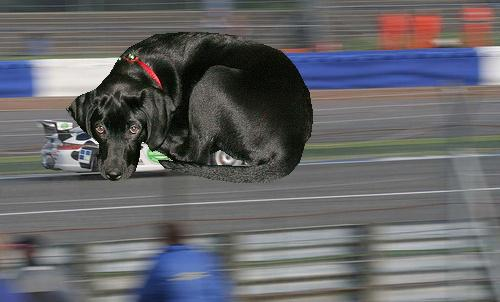tampered: (67, 33, 313, 183)
